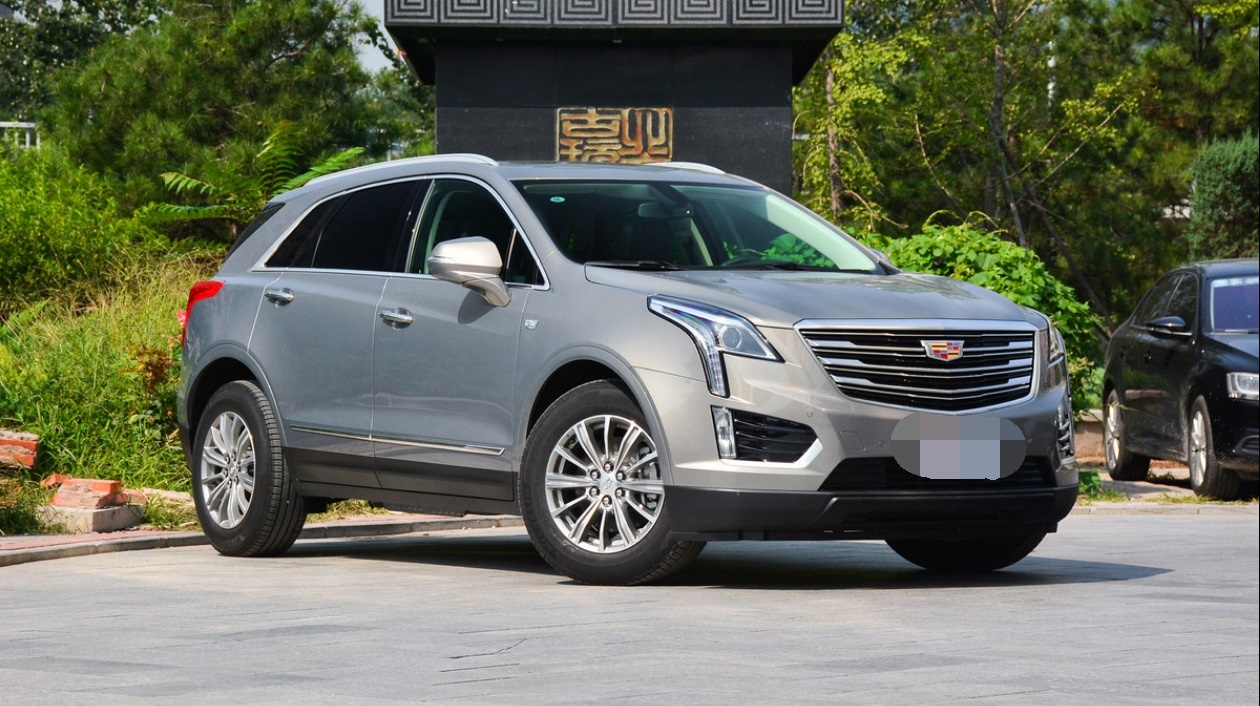SUV: (166, 140, 1084, 587)
